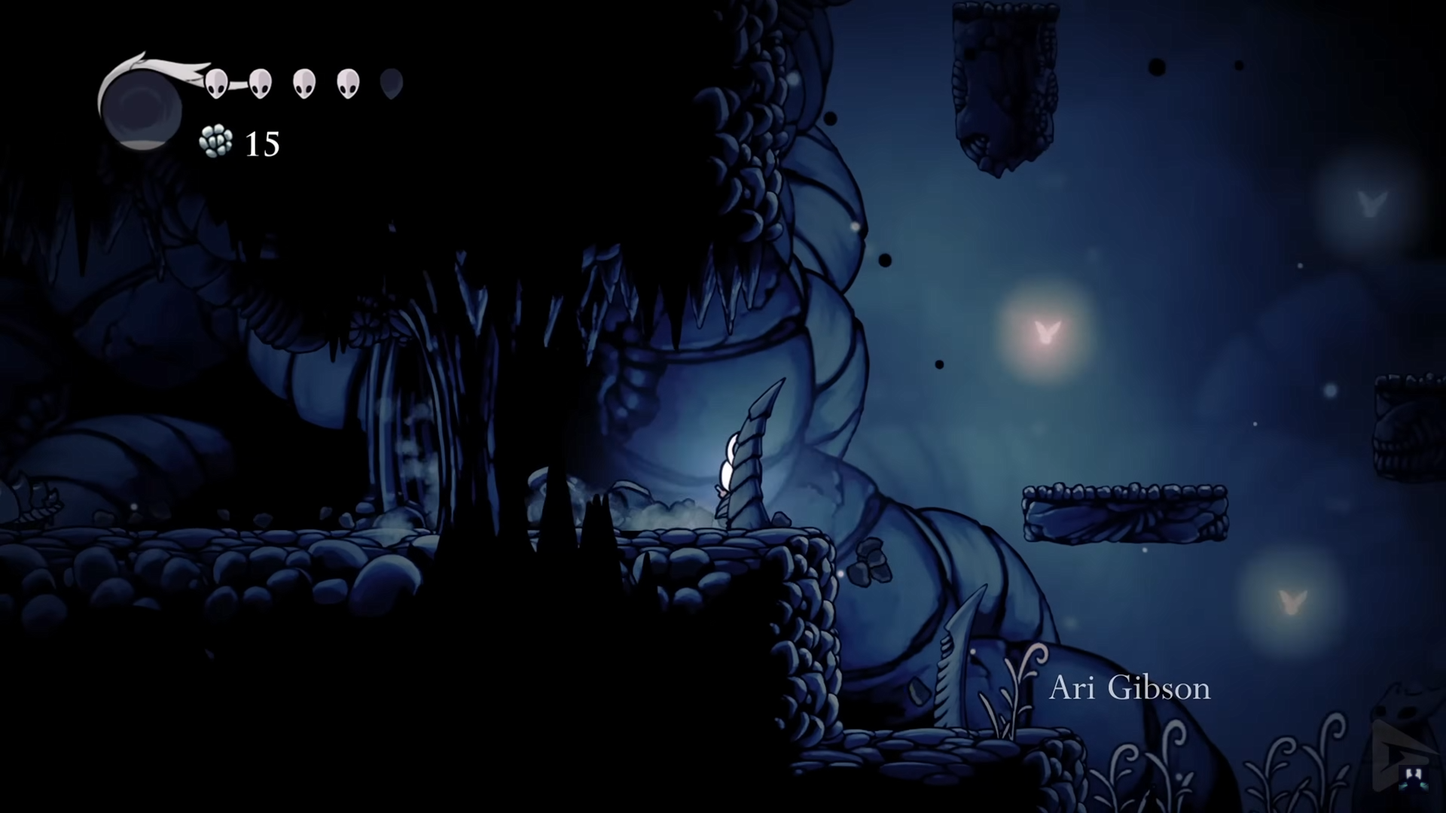HK: (715, 429, 739, 527)
